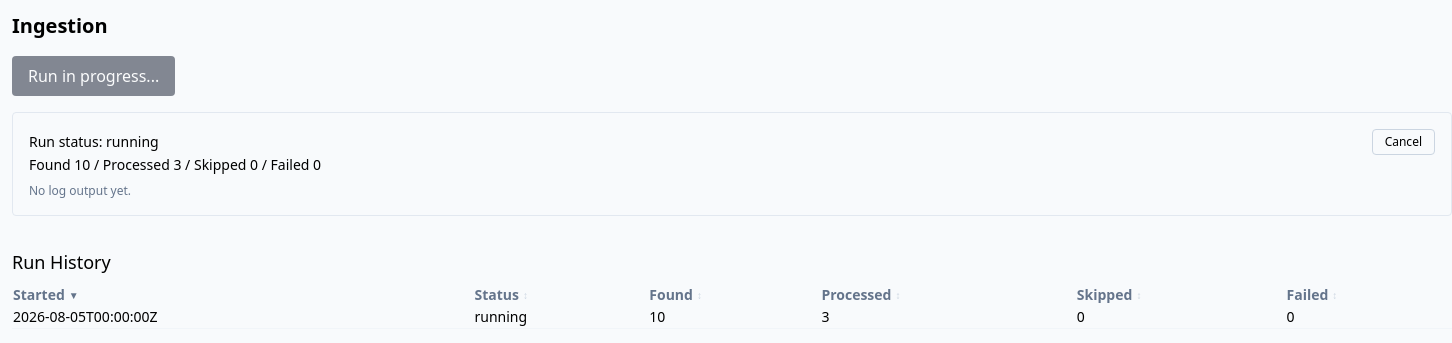
Test: IngestionPage cancellation › clicking Cancel requests cancellation and shows a distinct Cancelling state
The width and height of the screenshot is (1452, 343).
Click the button with test id "cancel-run-button". click: (1403, 142)
box: [1372, 129, 1435, 155]
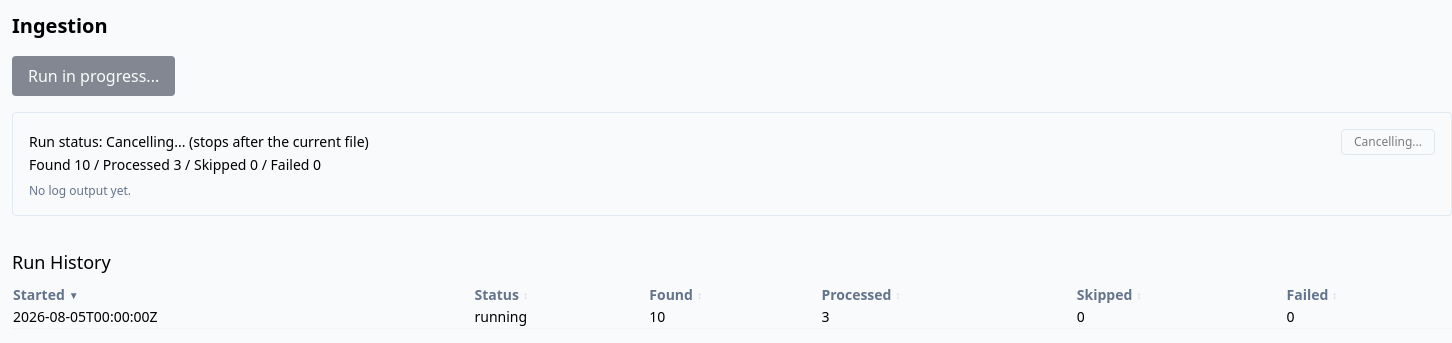
Check: the text "Run status: Cancelling... (stops after the current file)" is shown, box [29, 132, 369, 152]
Check: the button with test id "cancel-run-button" is disabled, box [1341, 129, 1435, 155]
